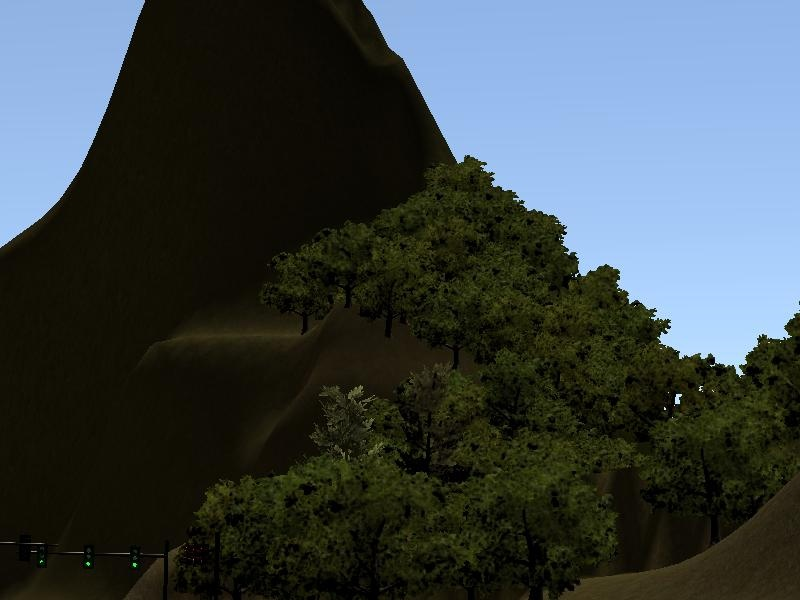GREEN: (79, 535, 95, 572), (127, 539, 141, 572)
